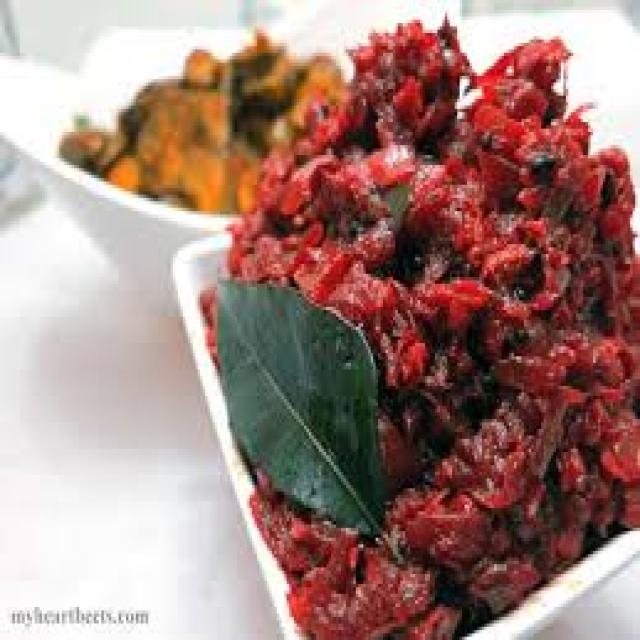beetroot poriyal: (187, 28, 640, 640)
